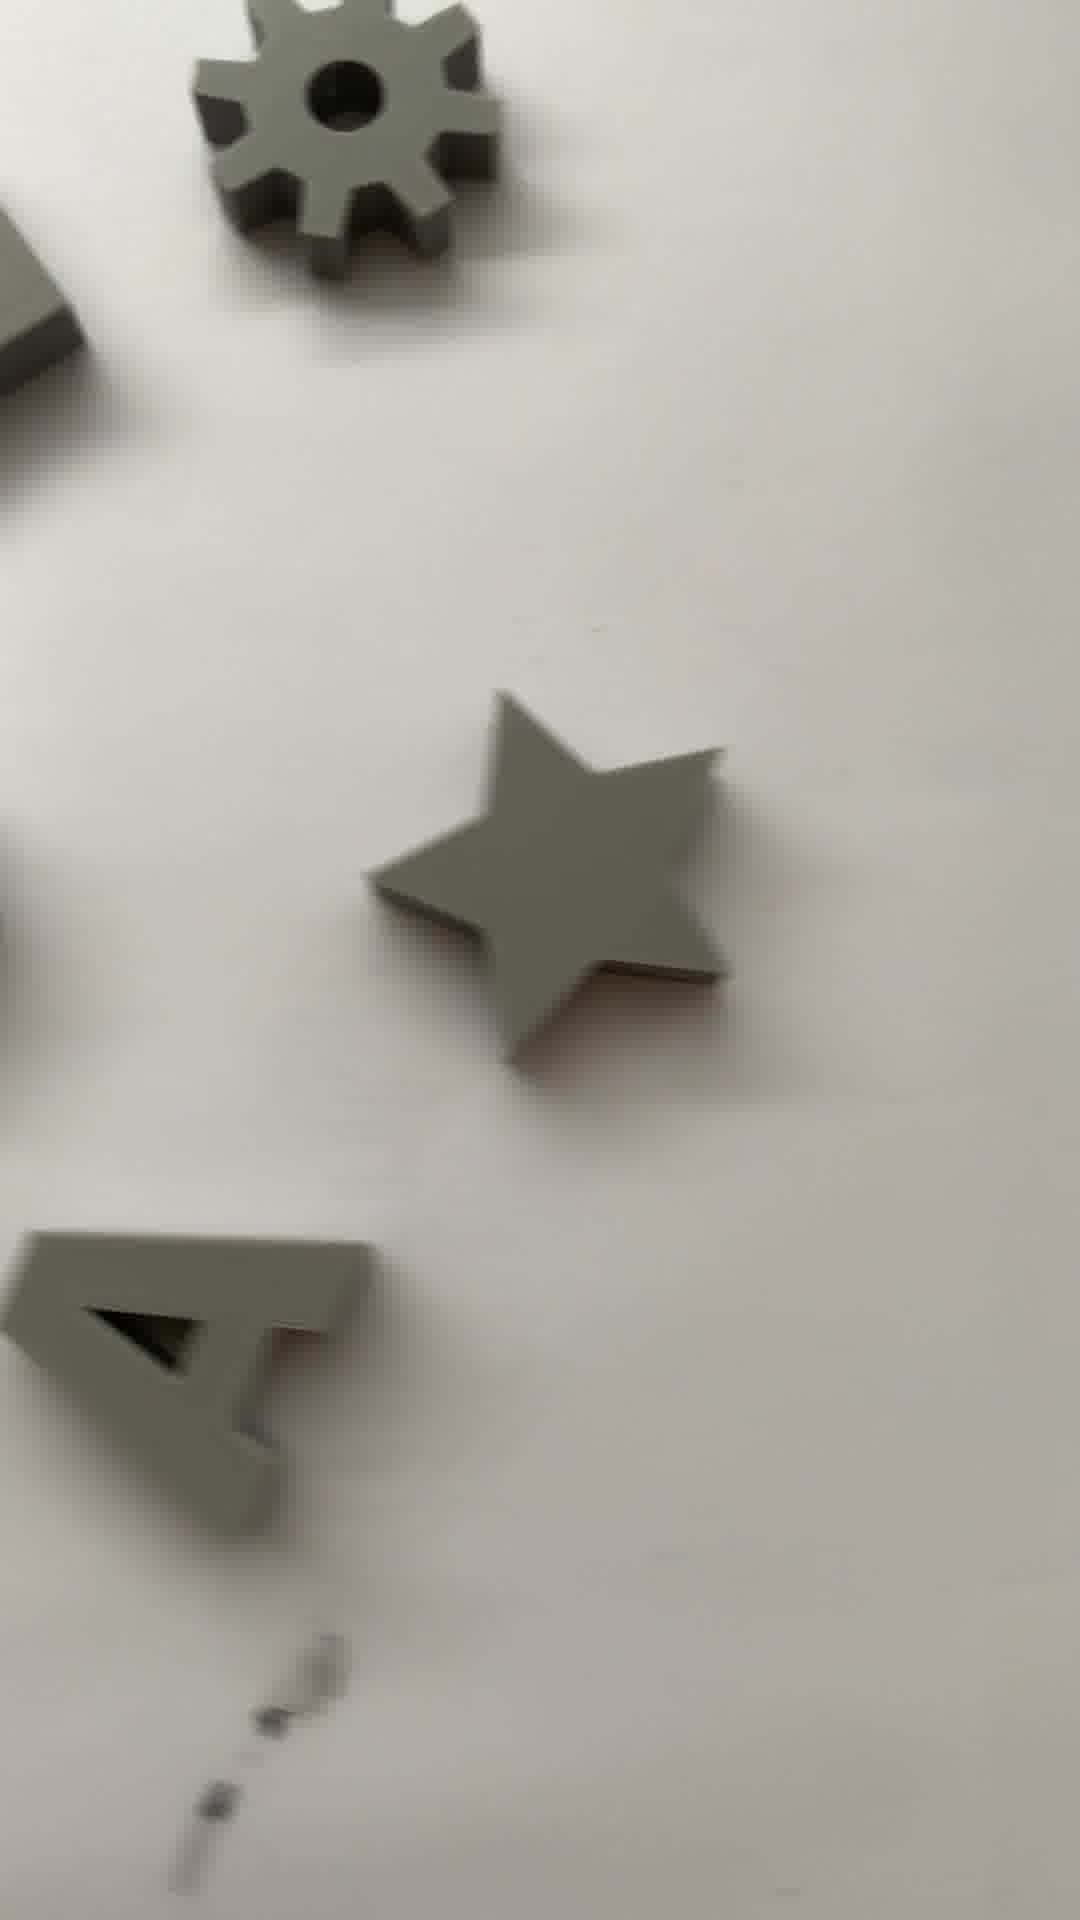Gray A-letter: (1, 1226, 367, 1536)
Gray gear: (198, 1, 495, 289)
Gray star: (367, 683, 749, 1079)
